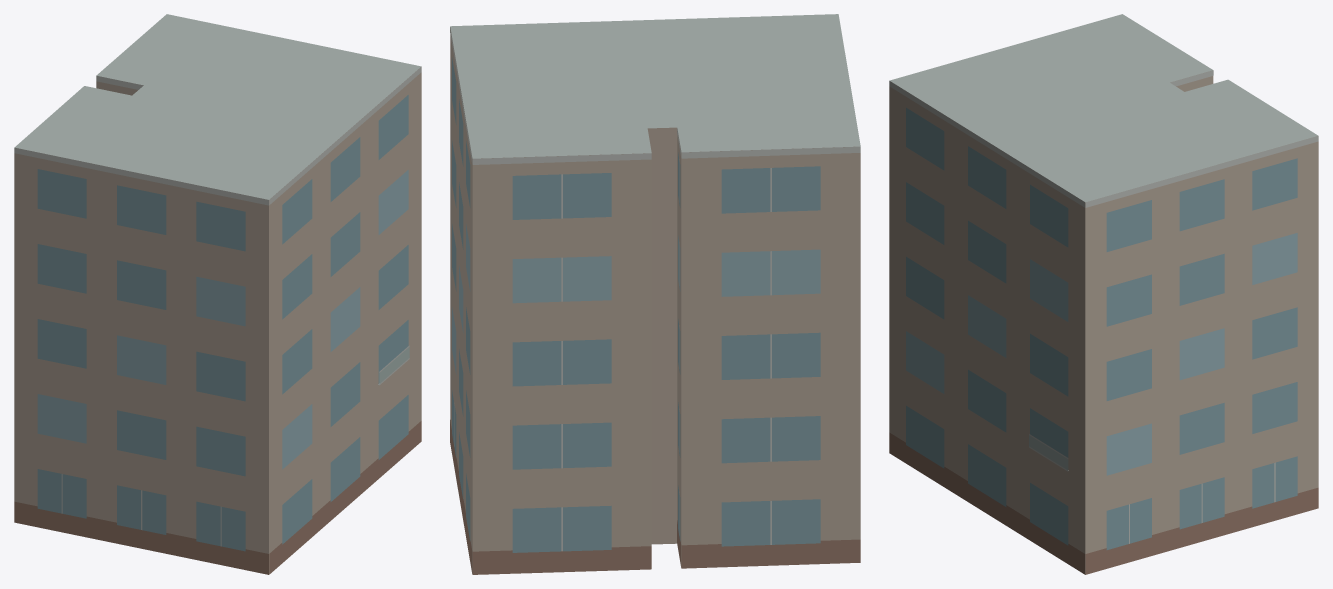
File: survey-upis-32884922.glb
3 views of the same model, side by side, from view 1: azimuth 30°, elevation 25°; view 2: azimuth 150°, elevation 25°; view 3: azimuth 270°, elevation 25° (orthographic). The views are drawn at different scales.
Parts seen in each view (by area): view 1: survey-upis-32884922.tmp; view 2: survey-upis-32884922.tmp; view 3: survey-upis-32884922.tmp.
Part boxes in pixels (<box>): survey-upis-32884922.tmp: <box>14,14,421,574</box>; survey-upis-32884922.tmp: <box>450,14,860,574</box>; survey-upis-32884922.tmp: <box>889,14,1318,574</box>.
Bounding box in the file's own units: 17.47 × 16.1 × 16.82.
